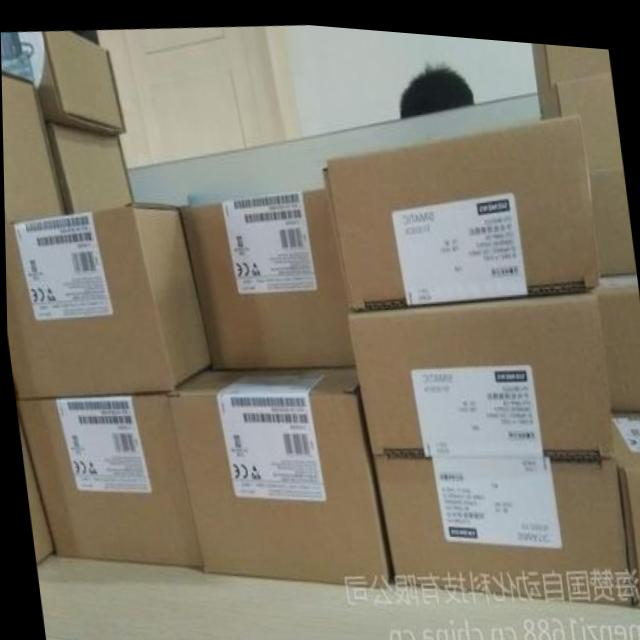box: (321, 109, 597, 303), (166, 359, 387, 579), (347, 284, 615, 449), (4, 198, 208, 400), (372, 446, 630, 595), (178, 180, 354, 367), (16, 391, 201, 565), (1, 70, 69, 223), (36, 31, 122, 135), (538, 63, 623, 159), (46, 124, 132, 213), (594, 263, 640, 404), (610, 402, 640, 596), (18, 416, 52, 566), (590, 157, 634, 263), (531, 34, 611, 92)
